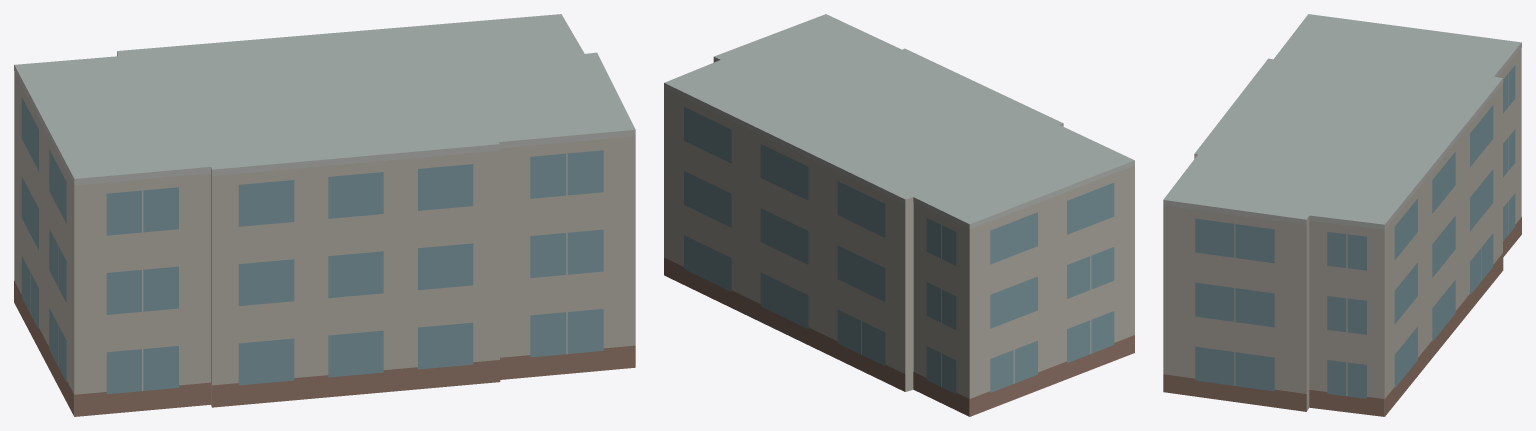
The model's file is survey-upis-32534833.glb.
The picture shows the model from 3 angles, left to right: view 1: azimuth 30°, elevation 25°; view 2: azimuth 150°, elevation 25°; view 3: azimuth 270°, elevation 25°; orthographic projection. The views are drawn at different scales.
Visible parts, largest first — view 1: survey-upis-32534833.tmp; view 2: survey-upis-32534833.tmp; view 3: survey-upis-32534833.tmp.
Boxes of the visible parts, box(x1,y1,x2,y2) form: survey-upis-32534833.tmp: box(14, 14, 635, 416); survey-upis-32534833.tmp: box(664, 14, 1134, 416); survey-upis-32534833.tmp: box(1163, 14, 1521, 416).
Size of the model in its own units: 21.52 by 9.15 by 15.48.
